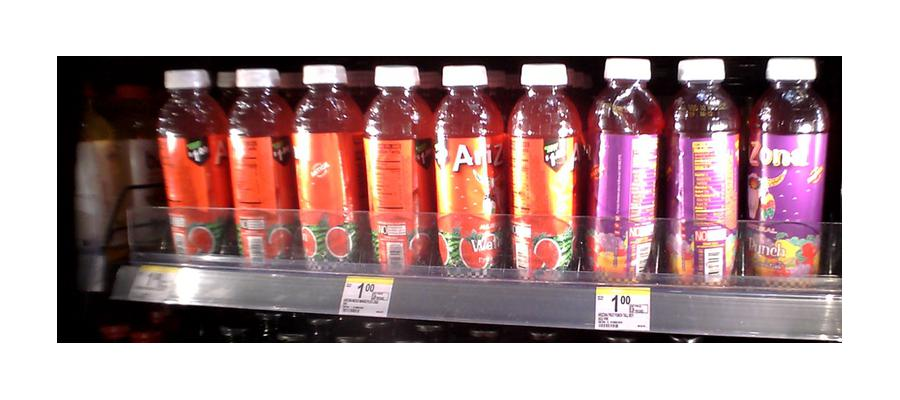bottle: (747, 57, 825, 284), (586, 60, 664, 281), (671, 58, 742, 283), (509, 63, 579, 281), (293, 60, 362, 272), (434, 64, 502, 278), (157, 64, 229, 260), (364, 64, 429, 271), (225, 65, 292, 265)
